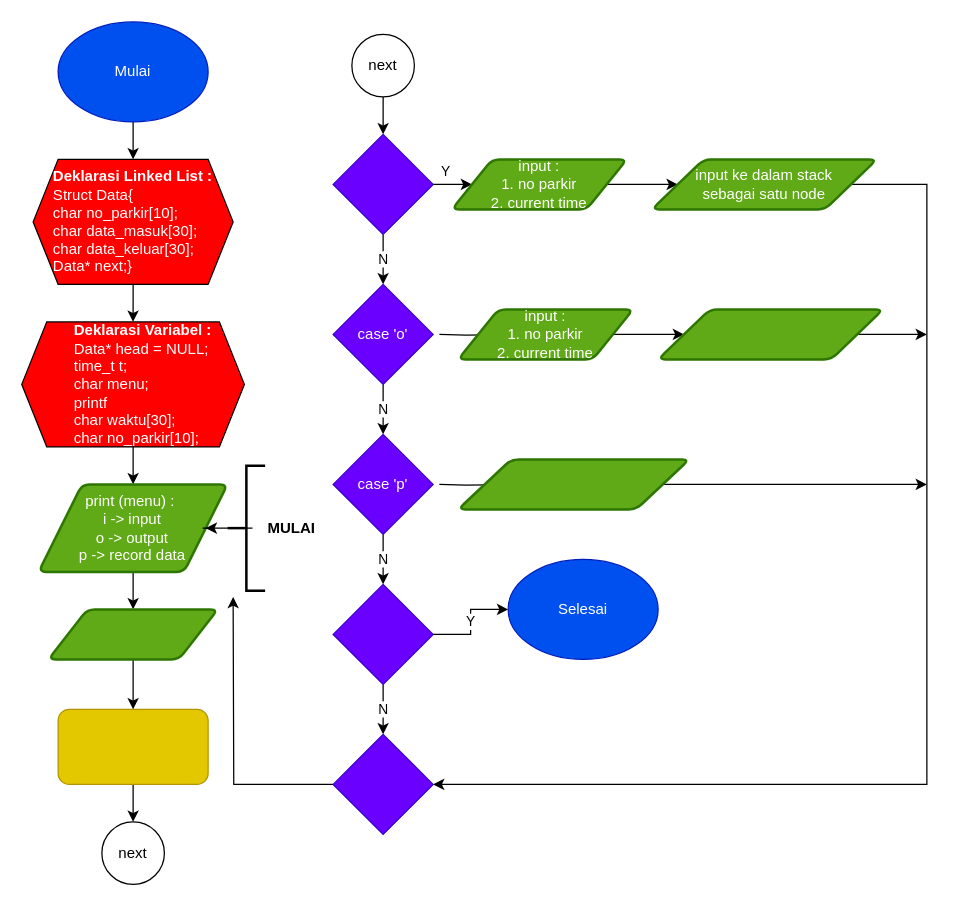
Image size: 960x906. Some labels were removed from this diagram. The shapes that lost their labels are listed below. From the top down, each one's centre as x and y in pixels, then its label:
point (382, 183): case 'i'
point (770, 334): input ke dalam node sesuia no parkirnya
point (573, 484): Tampilkan data dalam setiap node
point (132, 634): input : menu
point (382, 633): case '0'
point (132, 746): switch(menu)
point (382, 783): goto : MULAI
